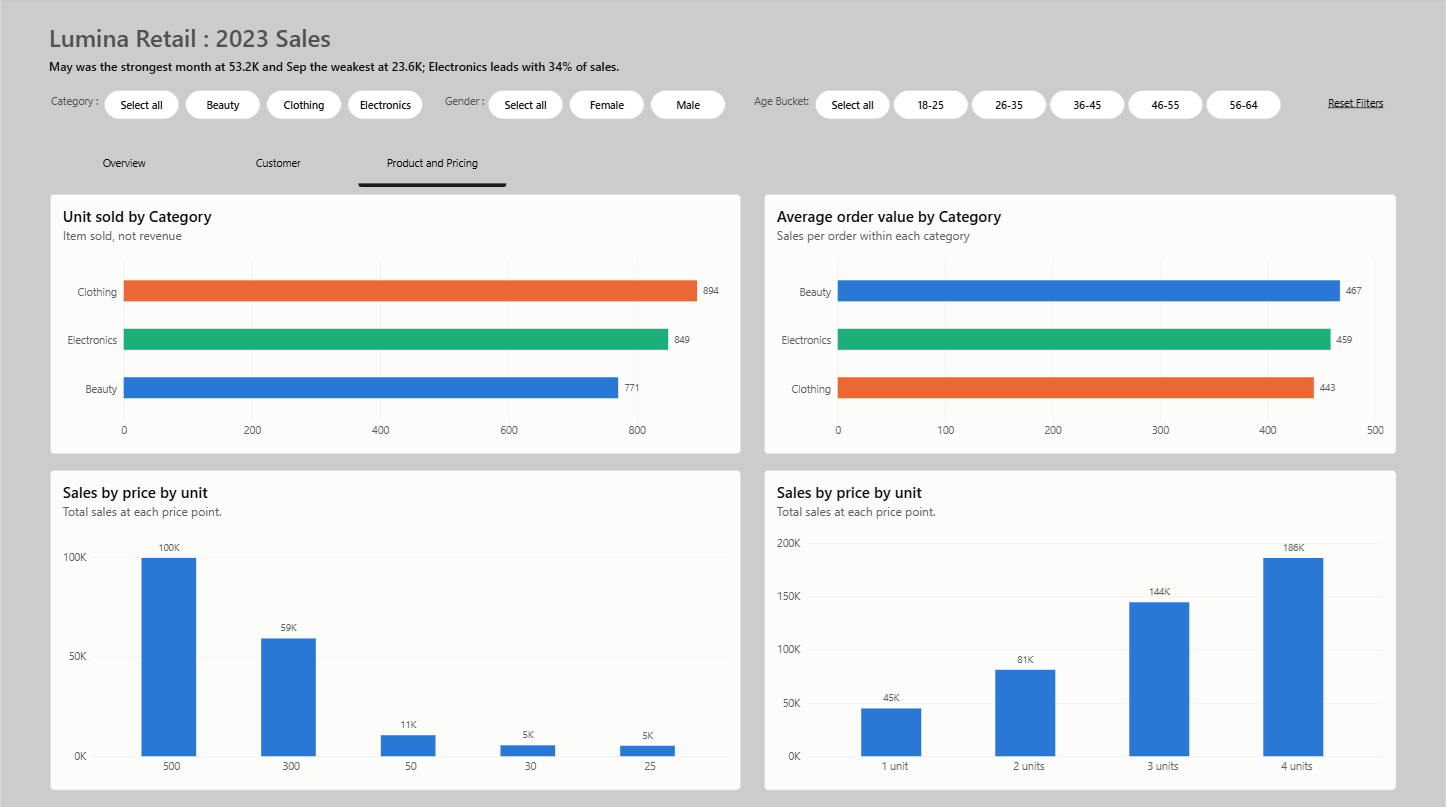

Layout of this report page (visuals, bound fields, positions):
{"tool":"powerbi","page":{"name":"Product and Pricing","canvas":[1920,1080],"ordinal":2},"visuals":[{"type":"barChart","title":"Unit sold by Category","fields":{"Category":["retail_sales_dataset.Product Category"],"Y":["Sum(retail_sales_dataset.Quantity)"]},"box":[65.7,261.4,918.6,345.7],"z":0},{"type":"barChart","title":"Average order value by Category","fields":{"Category":["retail_sales_dataset.Product Category"],"Y":["retail_sales_dataset.Ave Order Value"]},"box":[1014.3,261.4,841.4,345.7],"z":1000},{"type":"columnChart","title":"Sales by price by unit","fields":{"Category":["retail_sales_dataset.Price per Unit"],"Y":["Sum(retail_sales_dataset.Price per Unit)"]},"box":[65.7,628.6,918.6,425.7],"z":2000},{"type":"columnChart","title":"Sales by price by unit","fields":{"Category":["retail_sales_dataset.Basket Size"],"Y":["retail_sales_dataset.Total Sales"]},"box":[1014.3,628.6,841.4,425.7],"z":3000},{"type":"pageNavigator","box":[65.7,188.6,607.1,64.3],"z":7000},{"type":"advancedSlicerVisual","fields":{"Values":["retail_sales_dataset.Product Category"]},"box":[137,123.6,431,39],"z":9000},{"type":"textbox","box":[66,129.6,71,28],"z":10000},{"type":"advancedSlicerVisual","fields":{"Values":["retail_sales_dataset.Gender"]},"box":[648,123.6,336,39],"z":11000},{"type":"textbox","box":[591,129.6,71,28],"z":12000},{"type":"textbox","box":[1001,129.6,82,28],"z":13000},{"type":"advancedSlicerVisual","fields":{"Values":["retail_sales_dataset.Age Bucket"]},"box":[1083,123.6,690,39],"z":14000},{"type":"actionButton","box":[1731.4,100,140,50],"z":15000},{"type":"textbox","box":[63.3,32.2,654.5,47.3],"z":15001},{"type":"cardVisual","fields":{"Data":["retail_sales_dataset.Subtitle"]},"box":[47.8,65.6,1571.7,43.3],"z":15002}]}

Visuals, with their boxes in screenshot pixels (x1, y1, x2, y2), scaled from the page's 1920x1080 canvas onto the 1446x807 screenshot:
"Unit sold by Category" barChart: [left=49, top=195, right=741, bottom=454]
"Average order value by Category" barChart: [left=764, top=195, right=1398, bottom=454]
"Sales by price by unit" columnChart: [left=49, top=470, right=741, bottom=788]
"Sales by price by unit" columnChart: [left=764, top=470, right=1398, bottom=788]
pageNavigator: [left=49, top=141, right=507, bottom=189]
advancedSlicerVisual - retail_sales_dataset.Product Category: [left=103, top=92, right=428, bottom=121]
textbox: [left=50, top=97, right=103, bottom=118]
advancedSlicerVisual - retail_sales_dataset.Gender: [left=488, top=92, right=741, bottom=121]
textbox: [left=445, top=97, right=499, bottom=118]
textbox: [left=754, top=97, right=816, bottom=118]
advancedSlicerVisual - retail_sales_dataset.Age Bucket: [left=816, top=92, right=1335, bottom=121]
actionButton: [left=1304, top=75, right=1409, bottom=112]
textbox: [left=48, top=24, right=541, bottom=59]
cardVisual - retail_sales_dataset.Subtitle: [left=36, top=49, right=1220, bottom=81]
